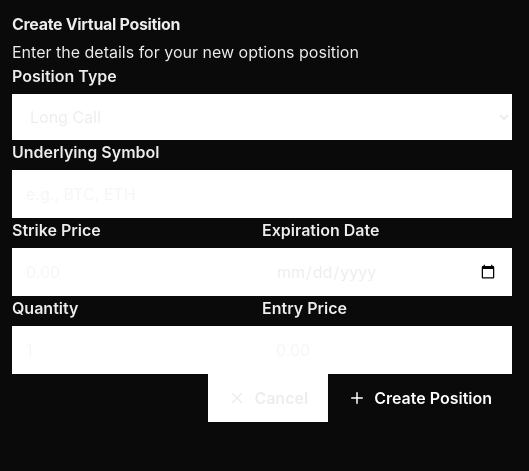
CreatePositionForm › validates that quantity must be non-zero
The width and height of the screenshot is (529, 471).
Step 1. Type "0" into the number field labelled "Quantity" → (137, 350), box [12,326,262,374]
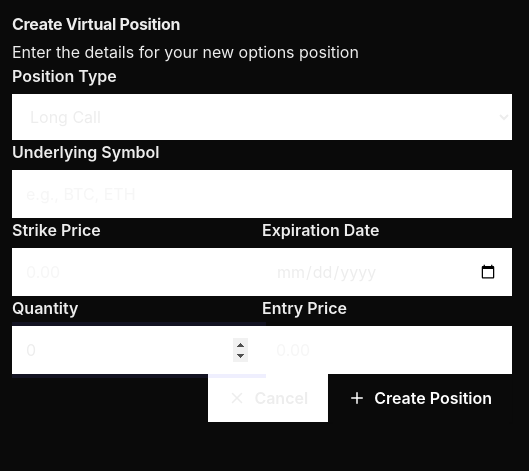
Step 2. Leave the number field labelled "Quantity", box [12,326,262,374]
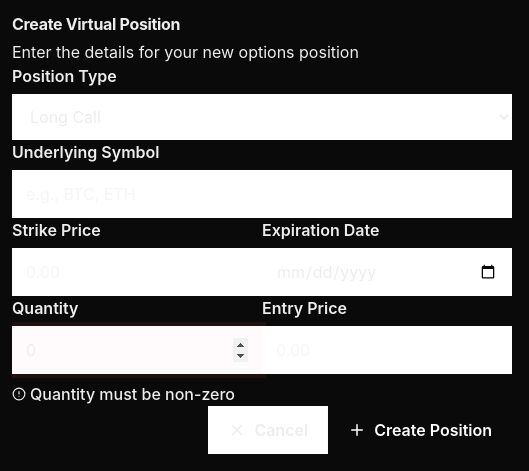
Check: the text "Quantity must be non-zero" is shown, box [12,382,262,406]
